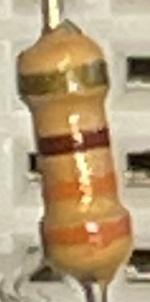Brown: (34, 125, 113, 160)
Orange: (40, 212, 134, 253), (41, 172, 118, 208)
Side-Gold: (17, 58, 110, 97)
